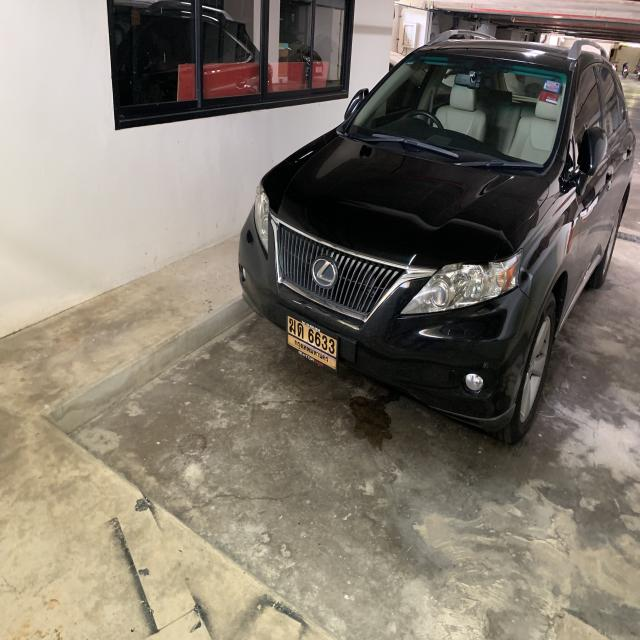license_plate: (285, 309, 340, 377)
